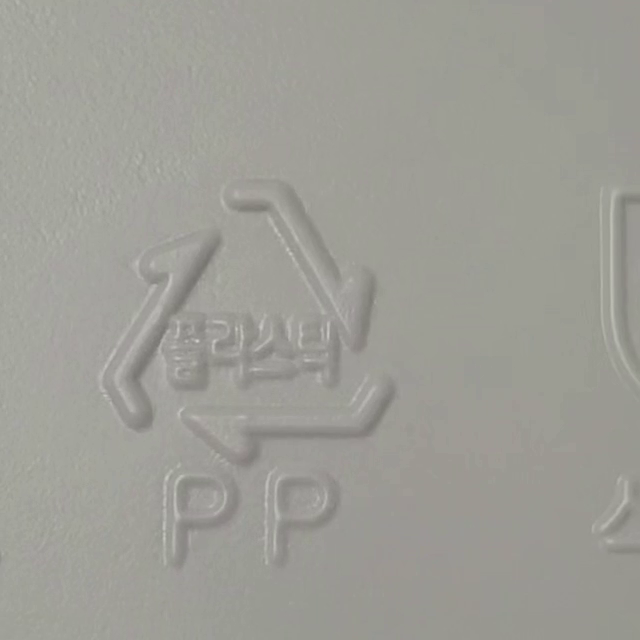Plastic: (103, 178, 394, 465)
